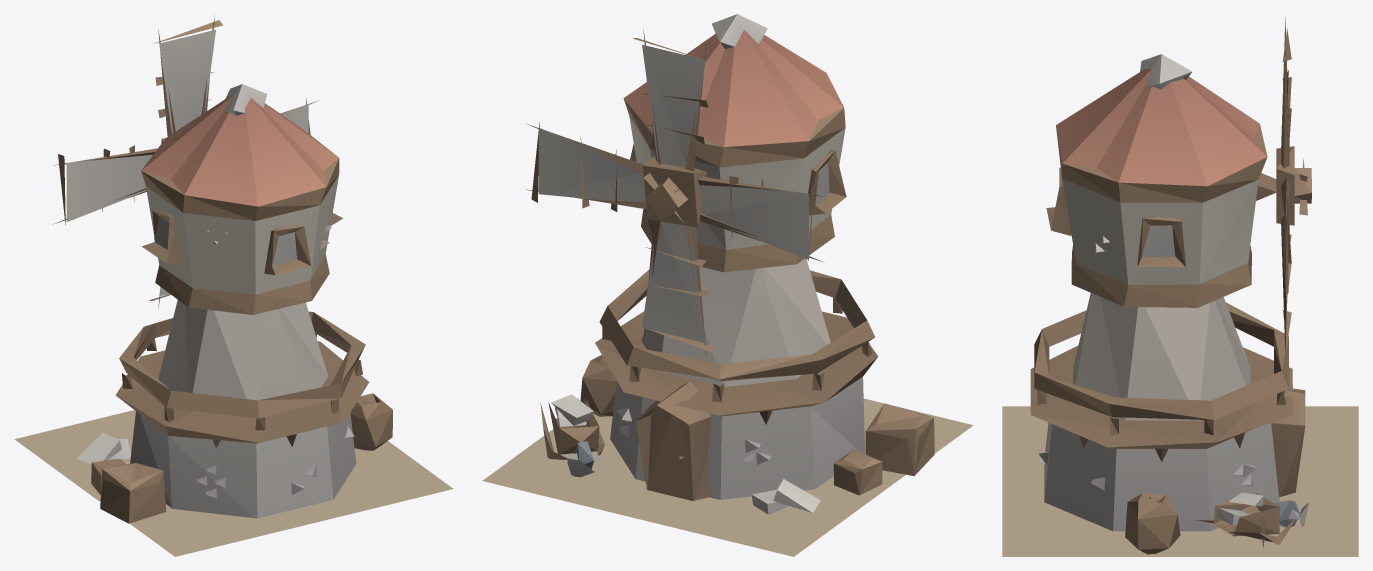
File: mill.lite.glb
3 views of the same model, side by side, from view 1: azimuth 30°, elevation 25°; view 2: azimuth 150°, elevation 25°; view 3: azimuth 270°, elevation 25° (orthographic). The views are drawn at different scales.
Visible parts, largest first — view 1: mill; view 2: mill; view 3: mill.
Boxes of the visible parts, x1,y1,x2,y2 form: mill: (14, 15, 452, 556); mill: (482, 14, 973, 556); mill: (1002, 17, 1358, 556).
Size of the model in its own units: 2.03 by 2.69 by 1.9.
